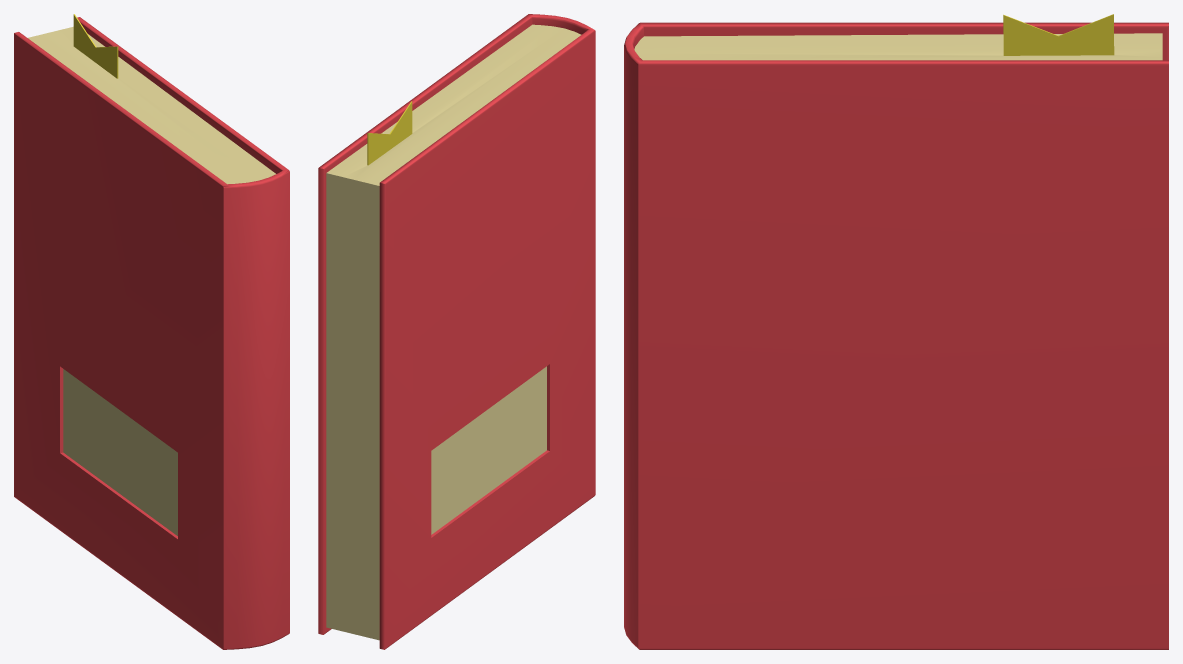
File: book1.fbx
3 renders of one model, left to right at view 1: azimuth 30°, elevation 25°; view 2: azimuth 150°, elevation 25°; view 3: azimuth 270°, elevation 25°, orthographic. The views are drawn at different scales.
Parts seen in each view (by area): view 1: Cube.001; view 2: Cube.001; view 3: Cube.001.
Boxes of the visible parts, x1,y1,x2,y2 form: Cube.001: [14, 14, 289, 649]; Cube.001: [318, 14, 595, 649]; Cube.001: [624, 14, 1168, 649].
Bounding box in the file's own units: 38.71 × 273 × 218.
